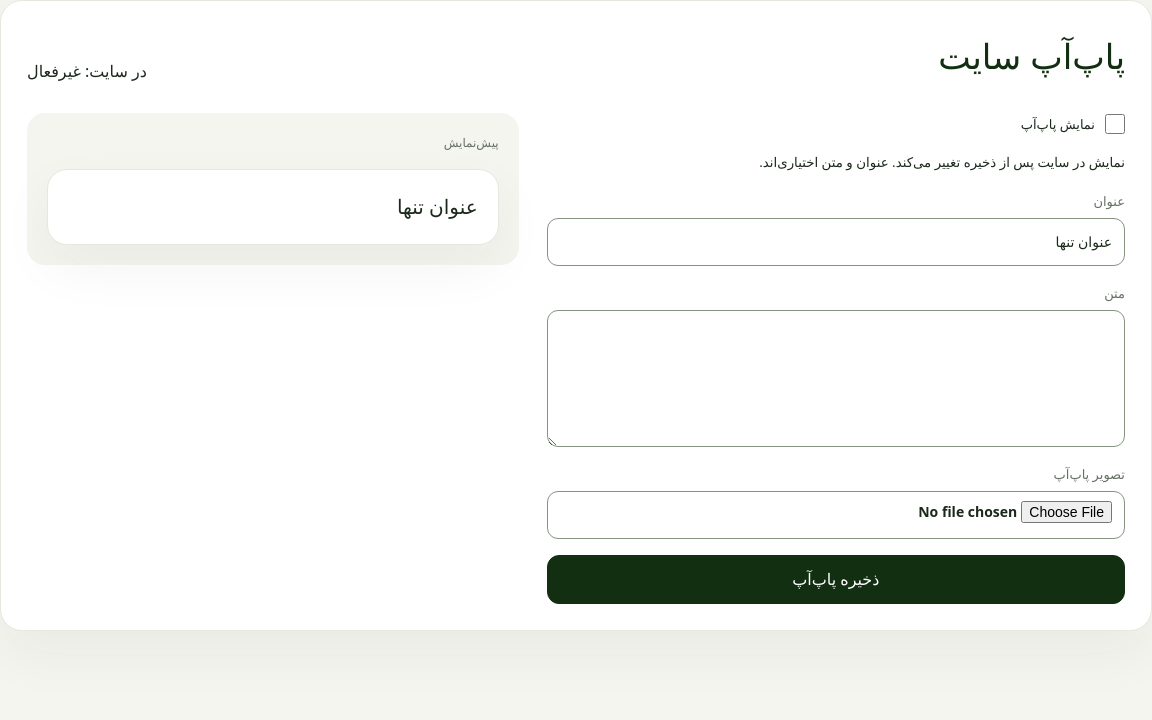
Test: sends optional text exactly without inserting a placeholder: {"title":"عنوان تنها","body":"","image":""}
Click the checkbox labelled "نمایش پاپ‌آپ" at (1115, 124), box [1105,114,1125,134]
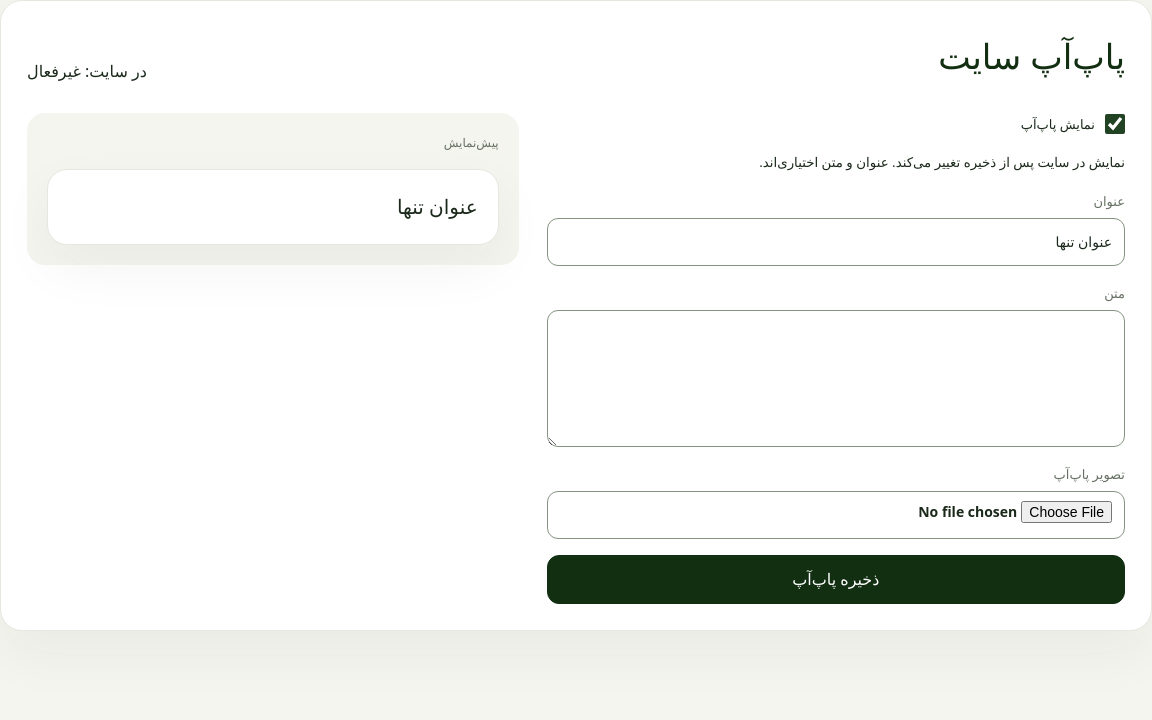
Submit the form labelled "عنوان"
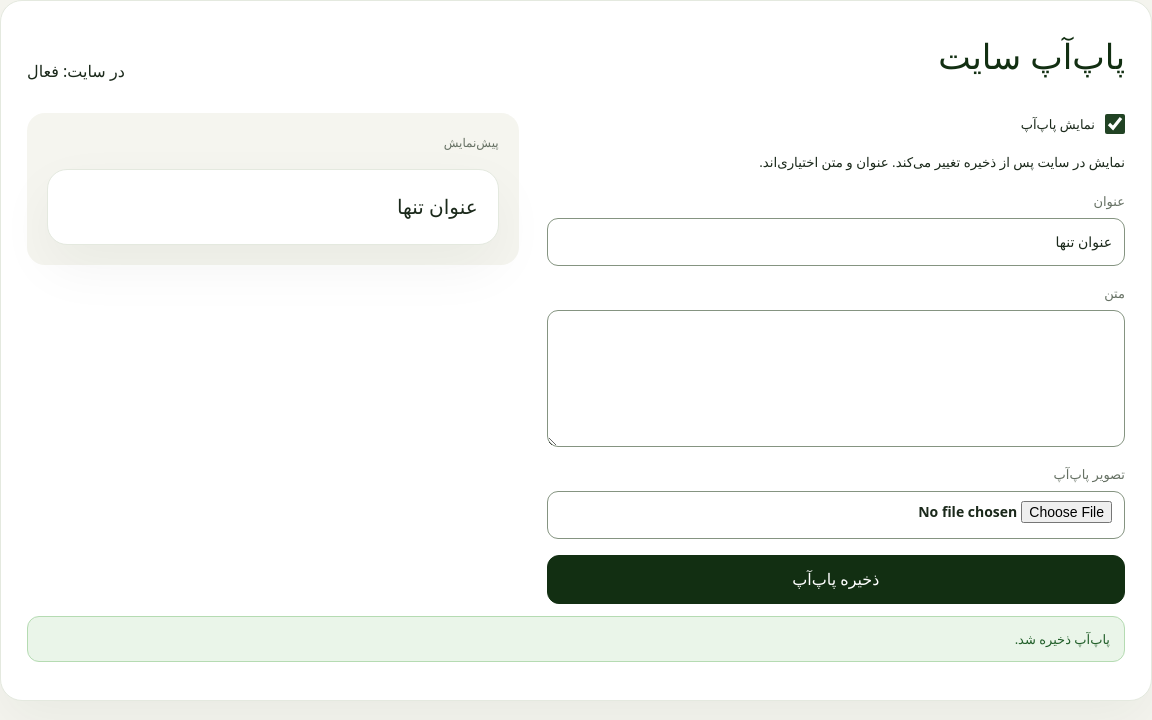
Result: the text "پاپ‌آپ ذخیره شد." is shown at [27,616,1125,662]
